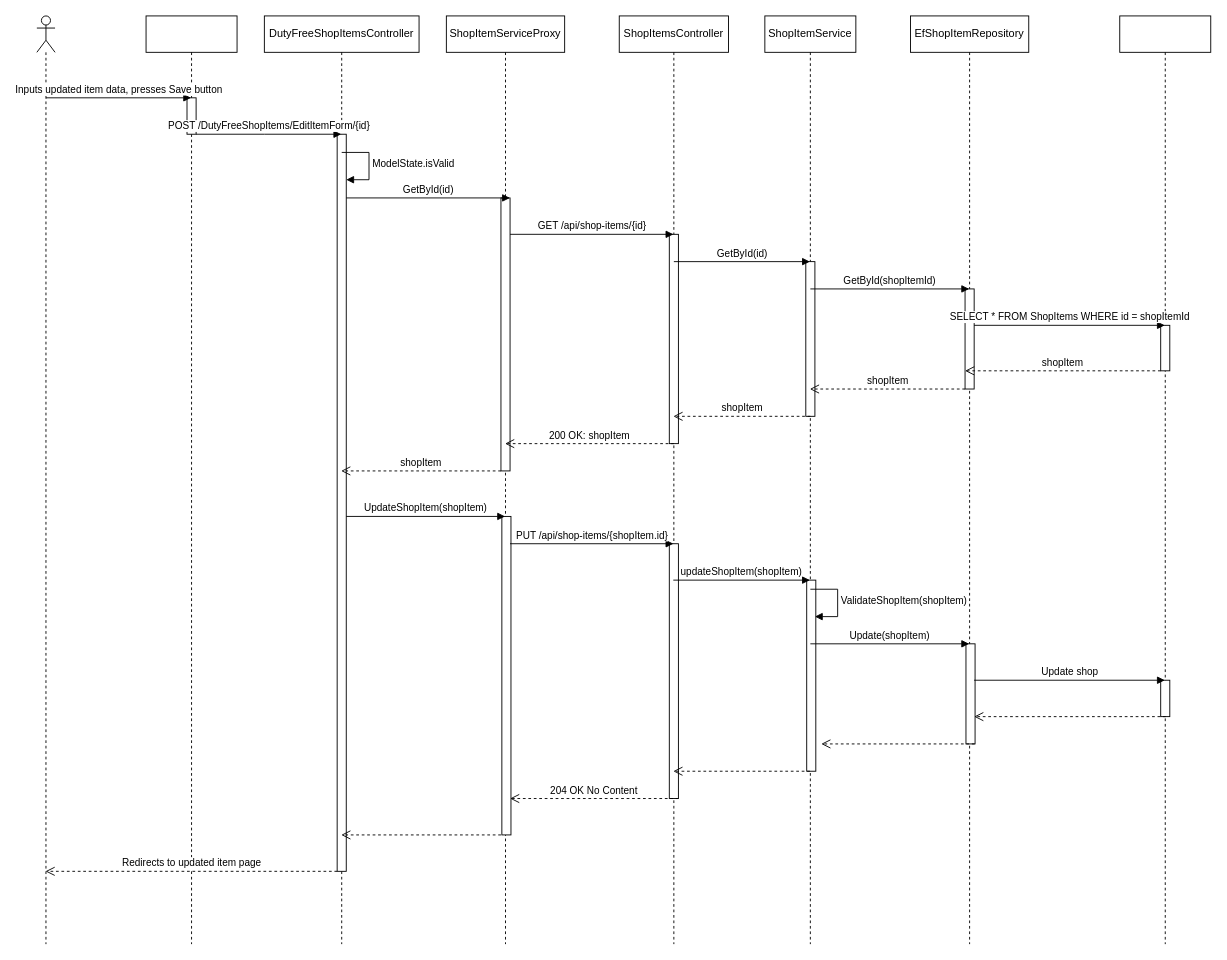
This 1227x960 diagram has some shape labels left out. Each missing label, with the box of its shape:
Database: (1119, 15, 1211, 944)
EditItemForm: (145, 15, 237, 944)
